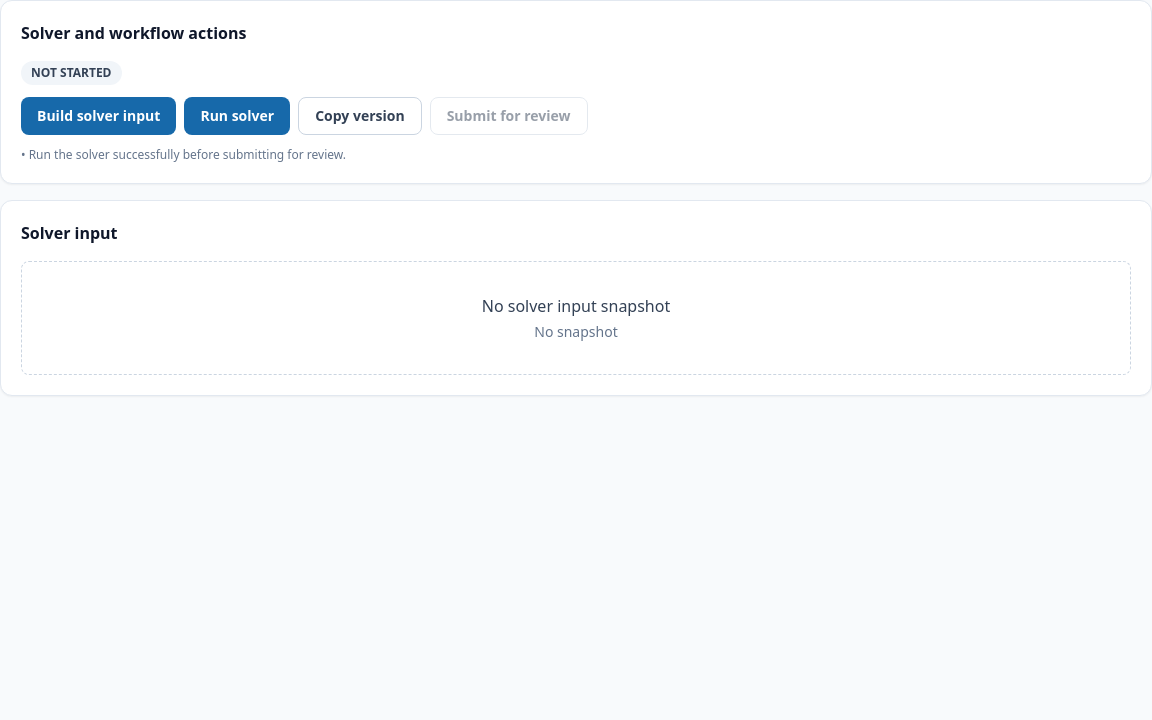
Scenario: Version operational actions › shows a rebuild instruction for a stale snapshot error
Click the button "Run solver". click: [237, 116]
box: left=184, top=97, right=290, bottom=135
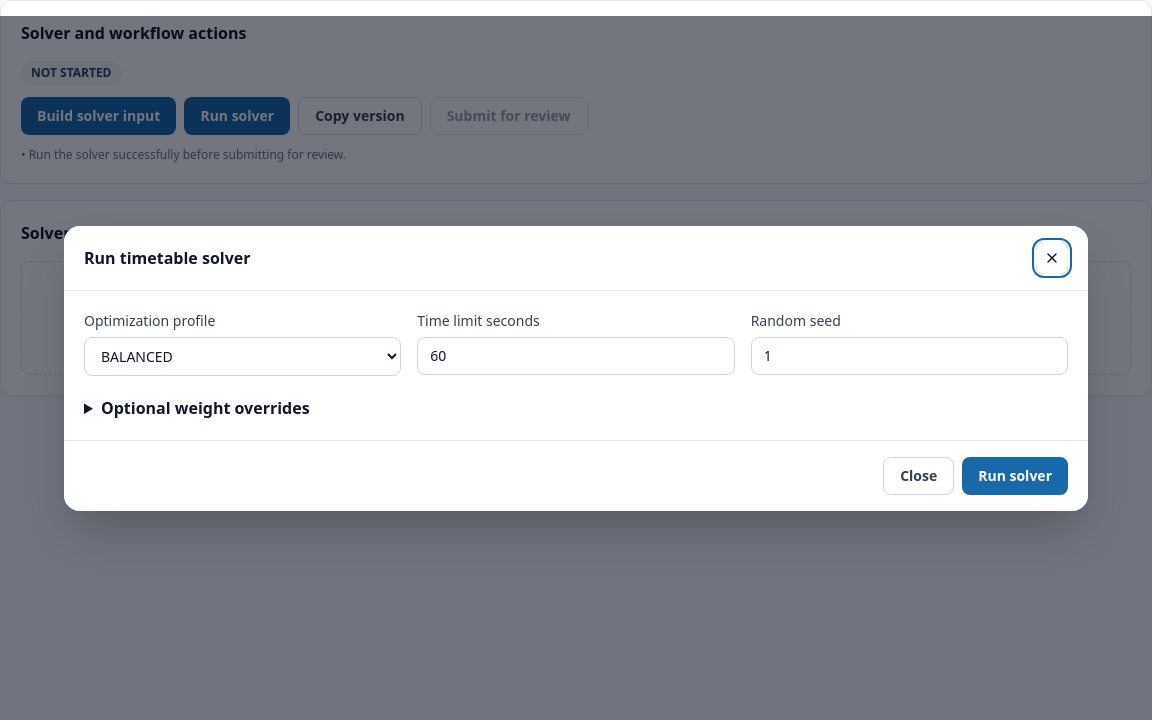
Click the button "Run solver". click: [1015, 476]
box: left=962, top=456, right=1068, bottom=494
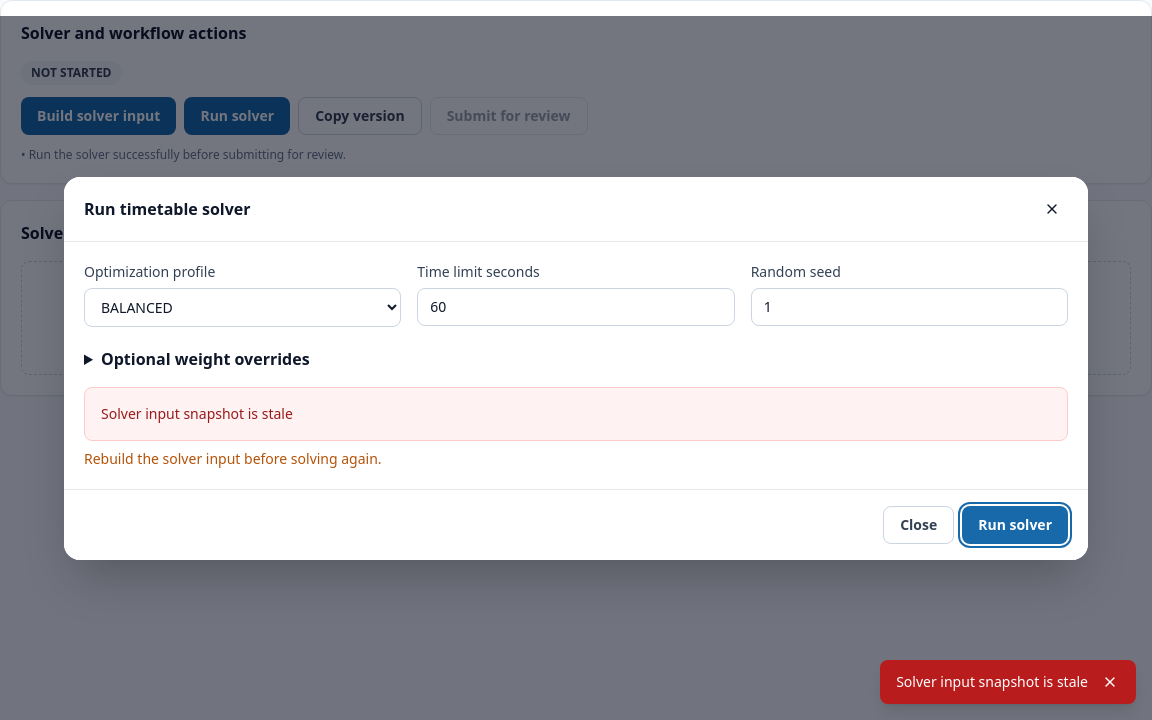
Check: the text "Solver input snapshot is stale" below "Optional weight overrides" is shown, box left=101, top=404, right=293, bottom=422
Check: the text "Rebuild the solver input before solving again." is shown, box left=84, top=448, right=382, bottom=468
